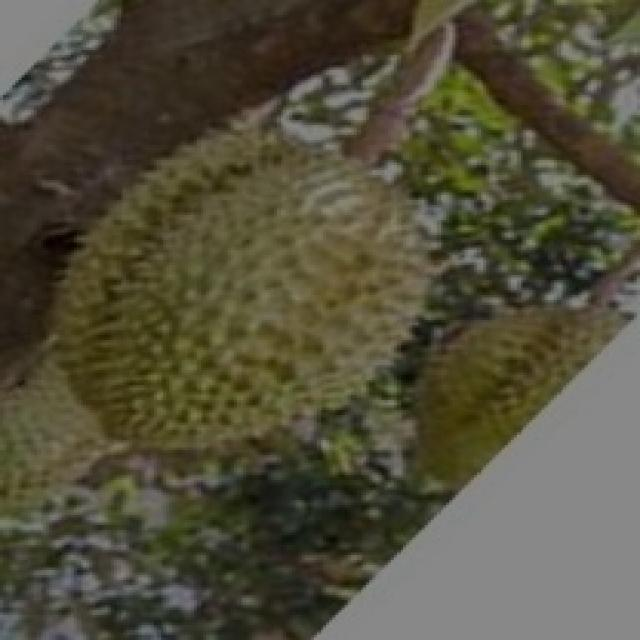fruit: (3, 80, 357, 512), (375, 258, 640, 608)
